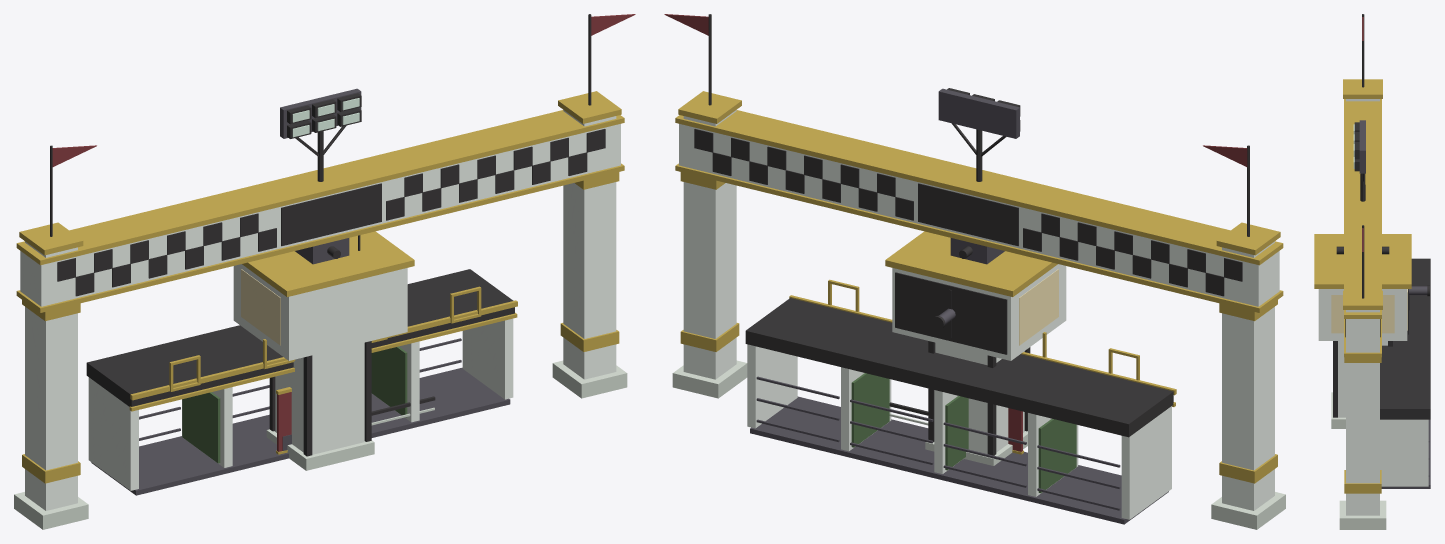
Rendered from downs-course.glb.
3 renders of one model, left to right at view 1: azimuth 30°, elevation 25°; view 2: azimuth 150°, elevation 25°; view 3: azimuth 270°, elevation 25°, orthographic. The views are drawn at different scales.
Parts seen in each view (by area): view 1: dn_finish_arch_mint, dn_finish_arch_gold, dn_photo_tower_mint, dn_finish_arch_black, dn_gate_frame_black, dn_gate_frame_black2, dn_gate_frame_mint, dn_photo_tower_gold, dn_gate_frame_gold, dn_gate_frame_money2, dn_finish_arch_mint2, dn_photo_tower_black (+8 smaller); view 2: dn_finish_arch_mint, dn_finish_arch_gold, dn_gate_frame_black, dn_gate_frame_black2, dn_finish_arch_black, dn_gate_frame_mint, dn_photo_tower_black, dn_gate_frame_money2, dn_photo_tower_mint, dn_photo_tower_gold, dn_finish_arch_mint2, dn_flood_black2 (+5 smaller); view 3: dn_finish_arch_gold, dn_finish_arch_mint, dn_gate_frame_black, dn_gate_frame_mint, dn_photo_tower_gold, dn_photo_tower_mint, dn_photo_tower_glasswarm, dn_finish_arch_mint2, dn_finish_arch_black, dn_photo_tower_black, dn_flood_black, dn_flood_black2 (+3 smaller).
Part boxes in pixels (x1,y1,x2,y2): dn_finish_arch_mint: (20,110,620,510); dn_finish_arch_gold: (16,91,624,483); dn_photo_tower_mint: (233,264,407,454); dn_finish_arch_black: (50,14,605,296); dn_gate_frame_black: (86,269,514,406); dn_gate_frame_black2: (91,338,510,495); dn_gate_frame_mint: (88,318,513,490); dn_photo_tower_gold: (242,231,414,296); dn_gate_frame_gold: (129,286,517,411); dn_gate_frame_money2: (182,346,407,463); dn_finish_arch_mint2: (14,360,627,529); dn_photo_tower_black: (269,235,371,456); dn_finish_arch_mint: (679,110,1279,510); dn_finish_arch_gold: (675,91,1283,483); dn_gate_frame_black: (745,298,1173,437); dn_gate_frame_black2: (750,376,1168,524); dn_finish_arch_black: (694,14,1249,296); dn_gate_frame_mint: (747,344,1171,519); dn_photo_tower_black: (895,272,1030,455); dn_gate_frame_money2: (851,373,1076,493); dn_photo_tower_mint: (892,264,1066,453); dn_photo_tower_gold: (885,231,1057,296); dn_finish_arch_mint2: (672,360,1285,529); dn_flood_black2: (938,88,1019,138); dn_finish_arch_gold: (1343,79,1382,493); dn_finish_arch_mint: (1346,99,1379,515); dn_gate_frame_black: (1380,258,1430,419); dn_gate_frame_mint: (1380,419,1428,486); dn_photo_tower_gold: (1314,234,1411,288); dn_photo_tower_mint: (1318,289,1407,417); dn_photo_tower_glasswarm: (1331,289,1407,333); dn_finish_arch_mint2: (1339,500,1386,529); dn_finish_arch_black: (1336,14,1389,337); dn_photo_tower_black: (1333,285,1429,417); dn_flood_black: (1354,122,1365,201); dn_flood_black2: (1359,120,1365,173).
Size of the model in its own units: 26.6 by 15.4 by 5.5.
